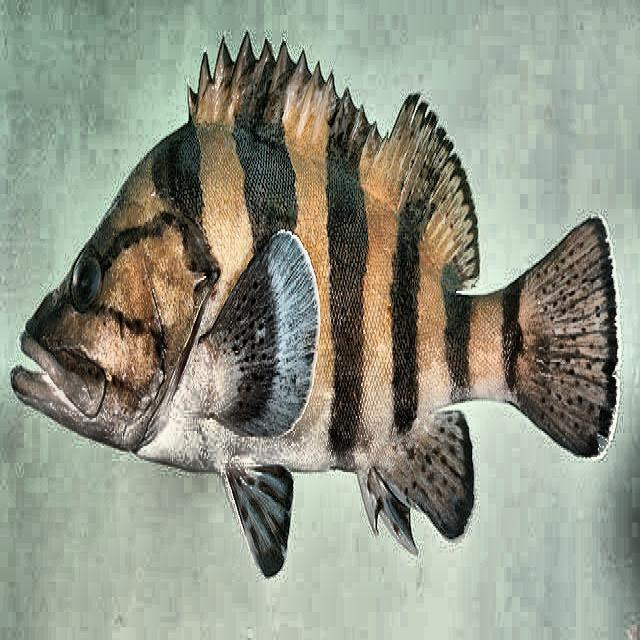fish: (9, 28, 622, 582)
